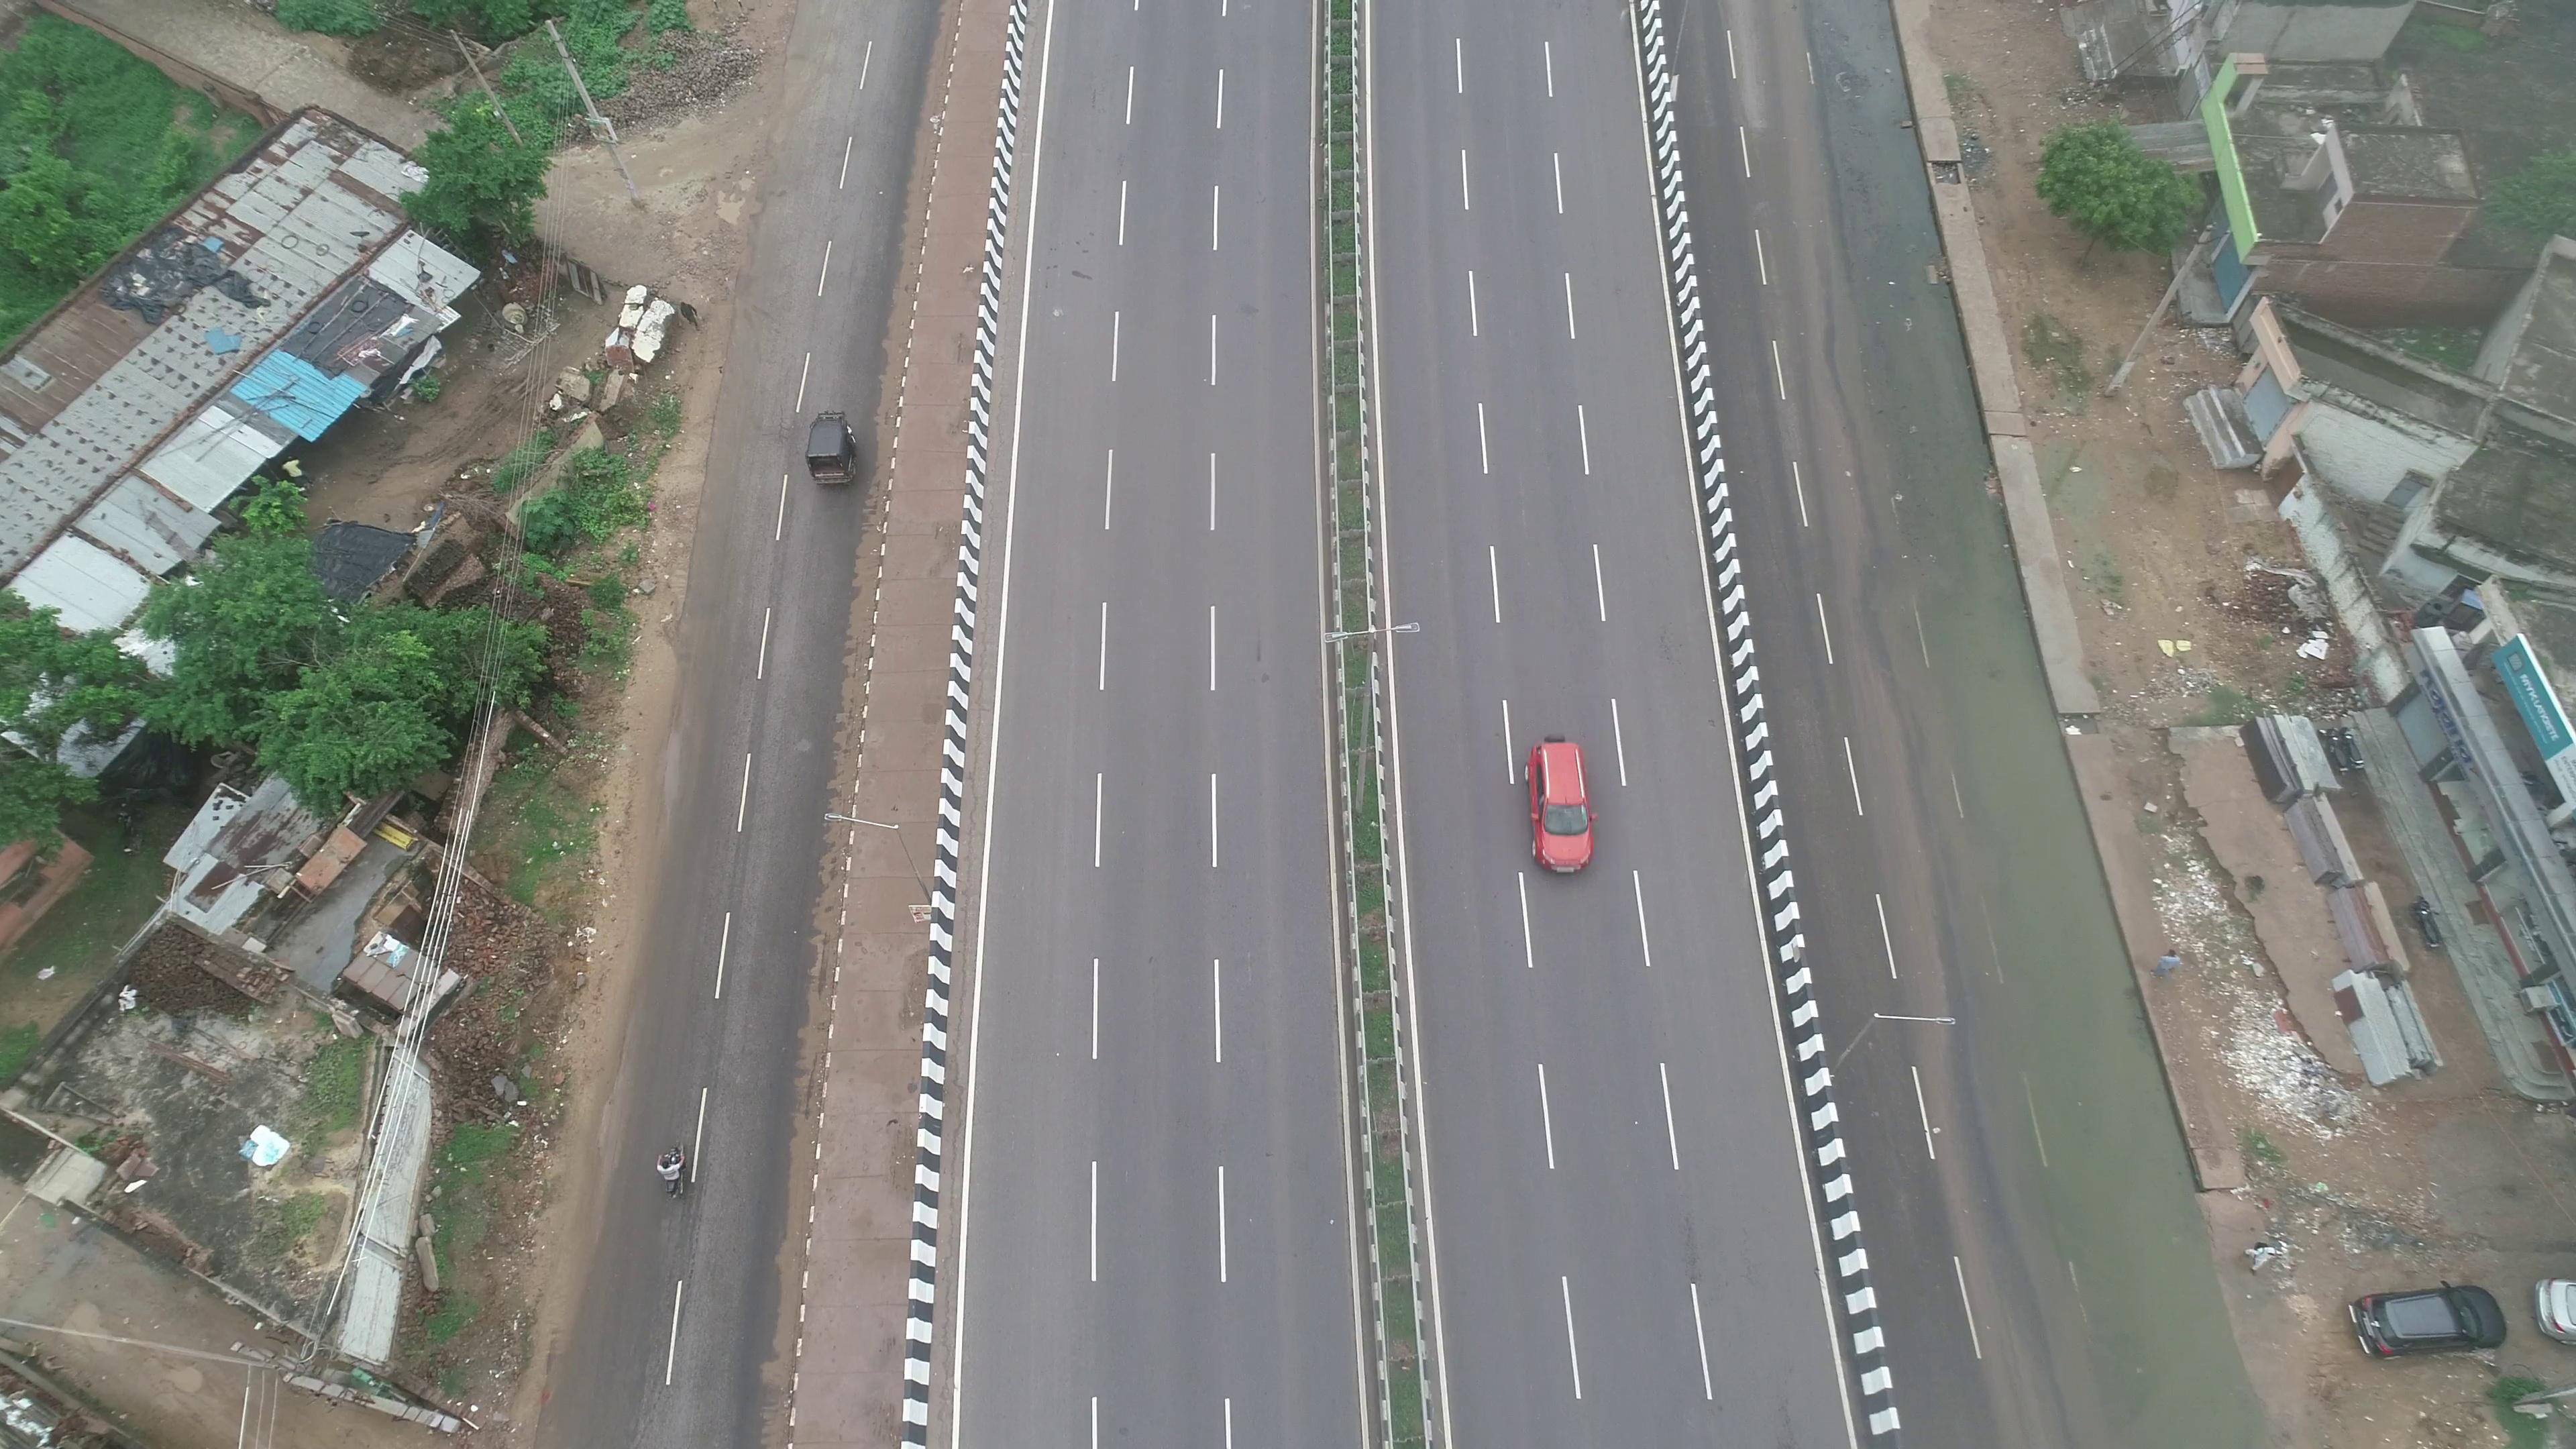Waterlogging: (1983, 771, 2219, 1217), (1847, 193, 1997, 676)
